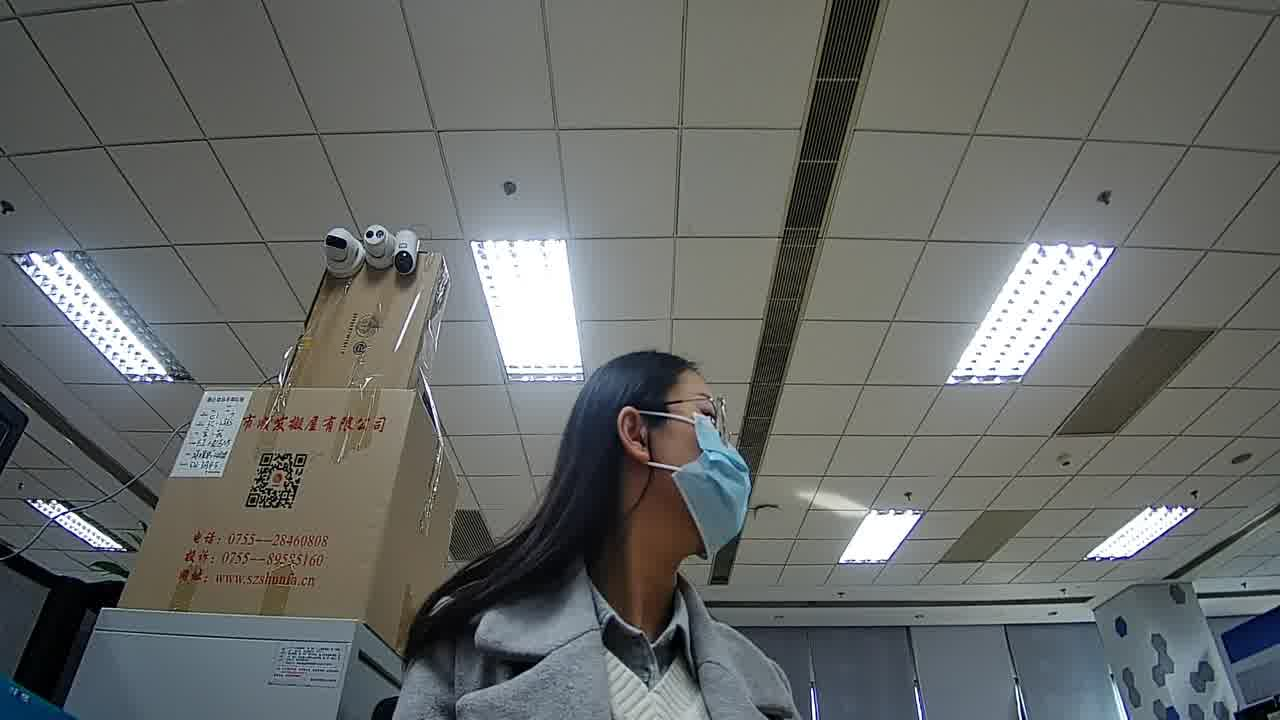face: (639, 370, 756, 557)
mask: (679, 413, 755, 558)
person: (465, 325, 795, 700)
